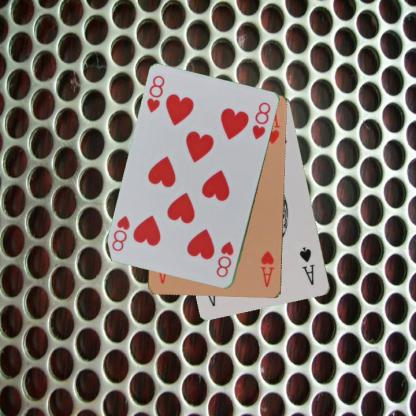8h: (144, 73, 166, 114), (214, 239, 235, 279)
Ah: (258, 248, 276, 289)
As: (297, 244, 317, 286)
